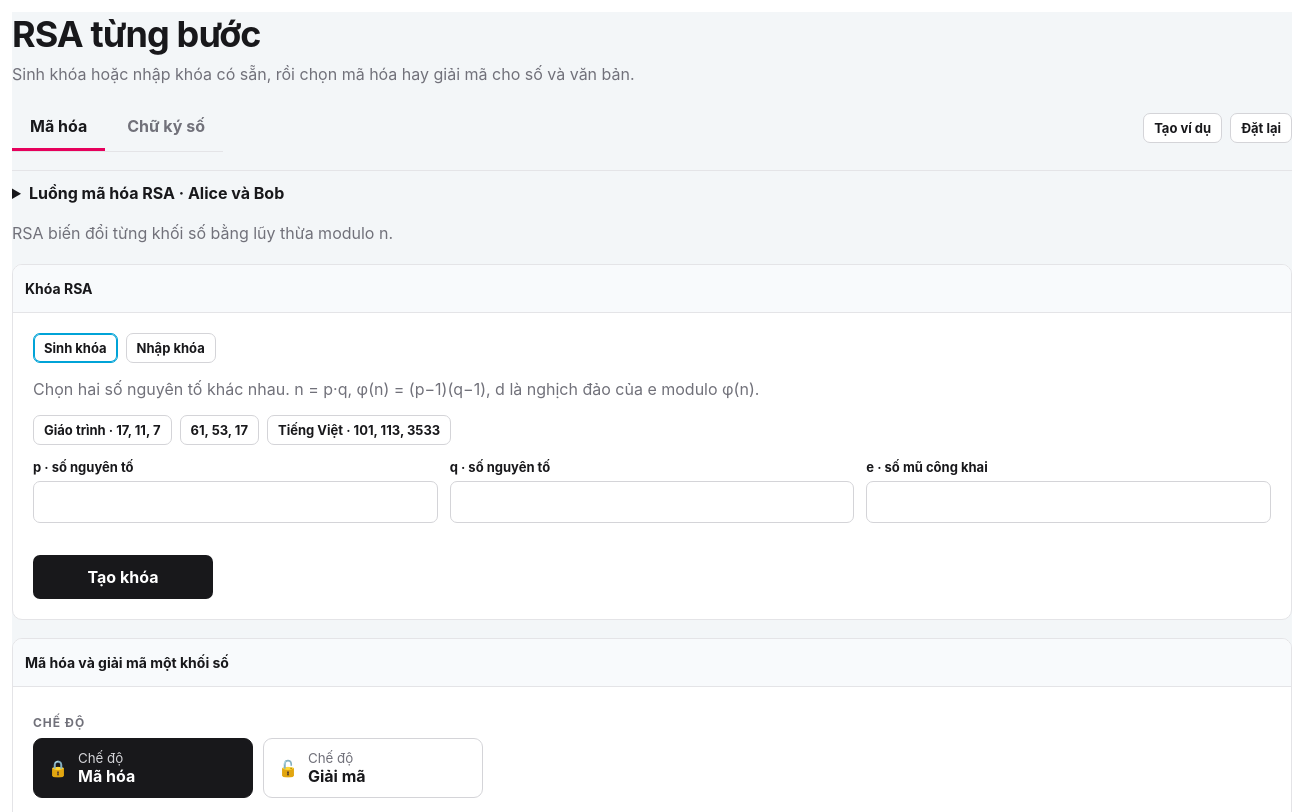
Scenario: RSA independent operations › never auto-runs, including examples, presets and StrictMode mounting
This screenshot has width=1304, height=812.
Expected: the field labelled "p · số nguyên tố" is empty, [33,481,438,523]
Expected: the field labelled "q · số nguyên tố" is empty, [450,481,854,523]
Click the button "Tạo ví dụ" at x=1183, y=128, box [1143,113,1222,143]
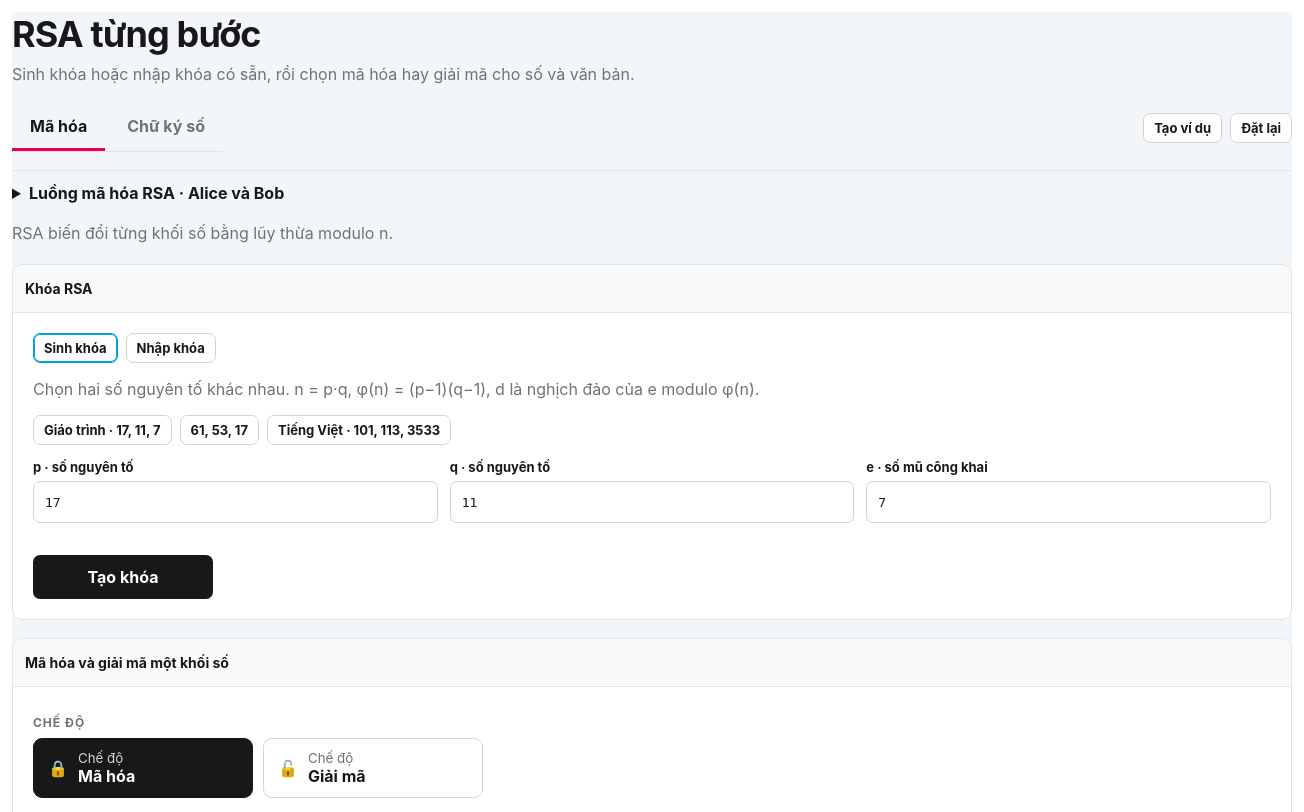
Expected: the field labelled "e · số mũ công khai" holds "7", [866,481,1271,523]
Expected: the field labelled "p · số nguyên tố" holds "17", [33,481,438,523]
Expected: the field labelled "q · số nguyên tố" holds "11", [450,481,854,523]
Click the button "61, 53, 17" at x=219, y=430, box [180,415,259,445]
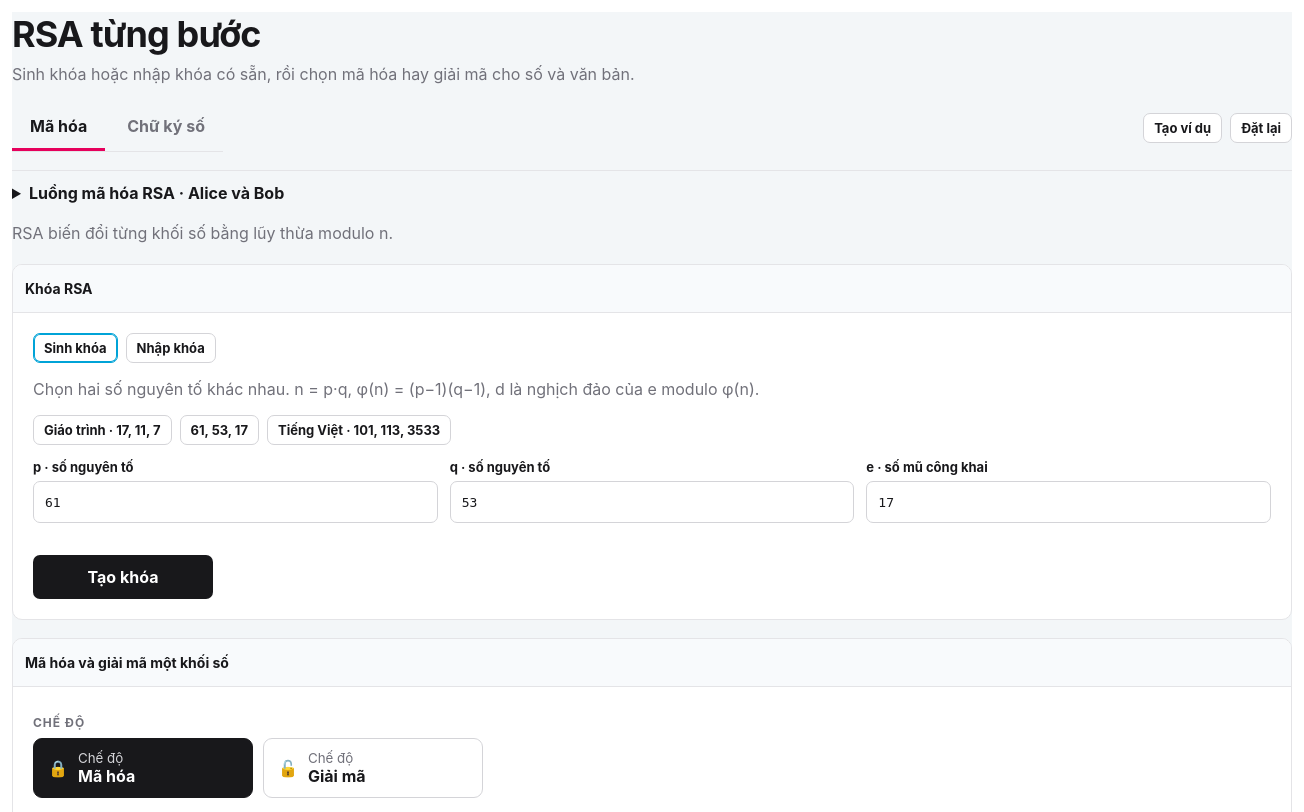
Click the button "Tạo khóa" at x=123, y=577, box [33,555,213,599]
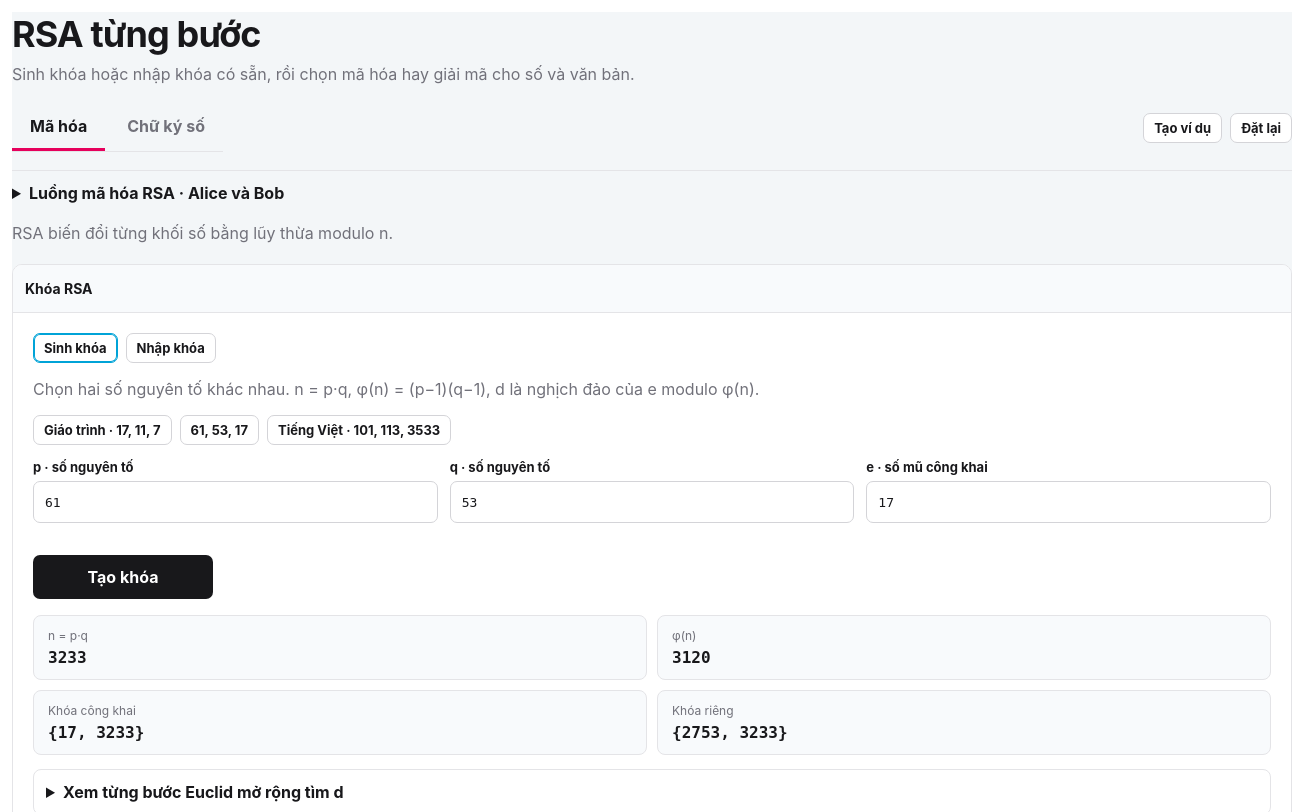
Expected: the text "{17, 3233}" is shown, [48,723,144,742]
